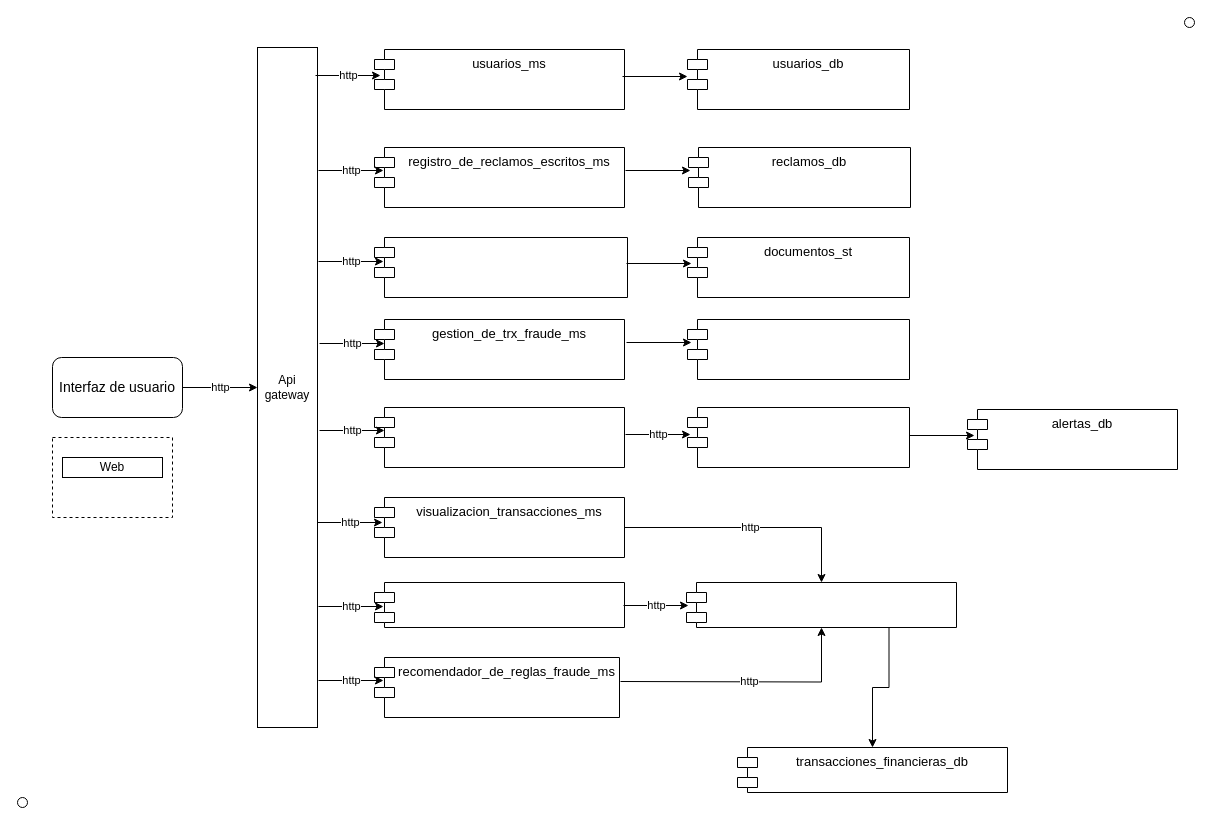
This 1212x825 diagram has some shape labels left out. Each missing label, with the box of its shape:
configuracion_de_alertas_ms: (686, 406, 910, 468)
envio_de_correos_ms: (374, 406, 624, 468)
gestiones_db: (686, 318, 910, 380)
obtener_transacciones_financieras_ms: (686, 582, 956, 628)
subir_documentos_adjuntos_ms: (374, 236, 628, 298)
visualizacion_graficos_ms: (374, 582, 624, 628)
